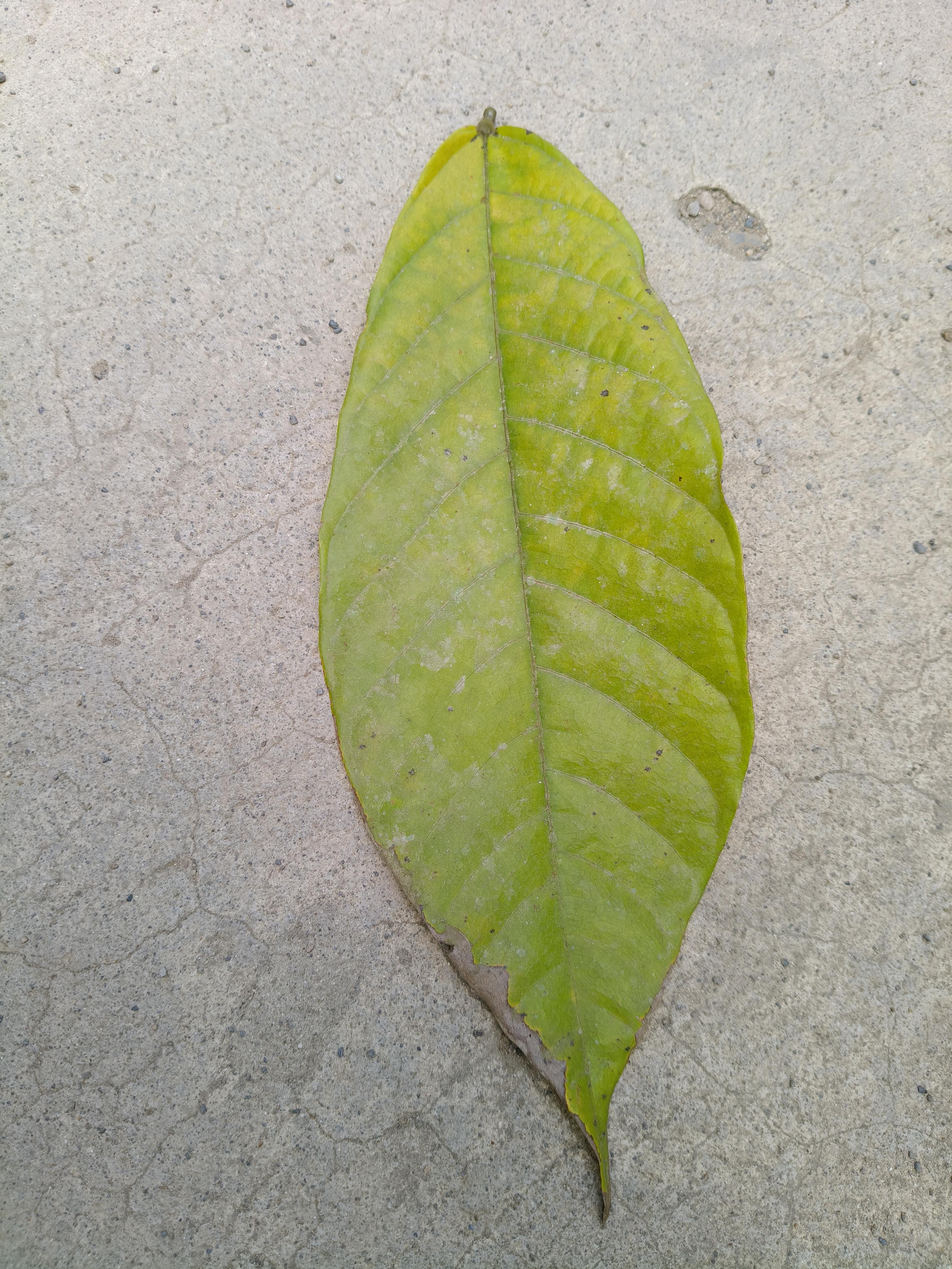deficiencia_potasio: (302, 109, 766, 1244)
